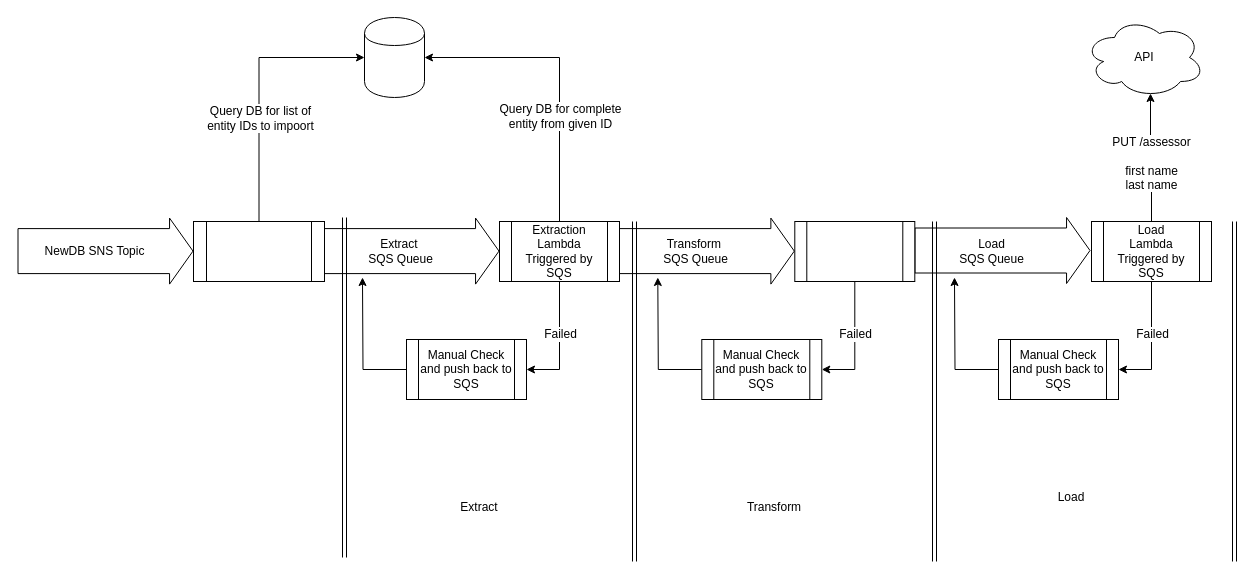
Some shapes in this 1254 by 579 pixel diagram are drawn without their labels. The shapes that lost their labels are listed below. From the top down, each one's centre as x and y in pixels, then its label:
At (394,57): "DB".
At (258,251): "Extraction Job Creator Lambda Triggered by SNS".
At (854,251): "Transformation Lambda Triggered by SQS".
